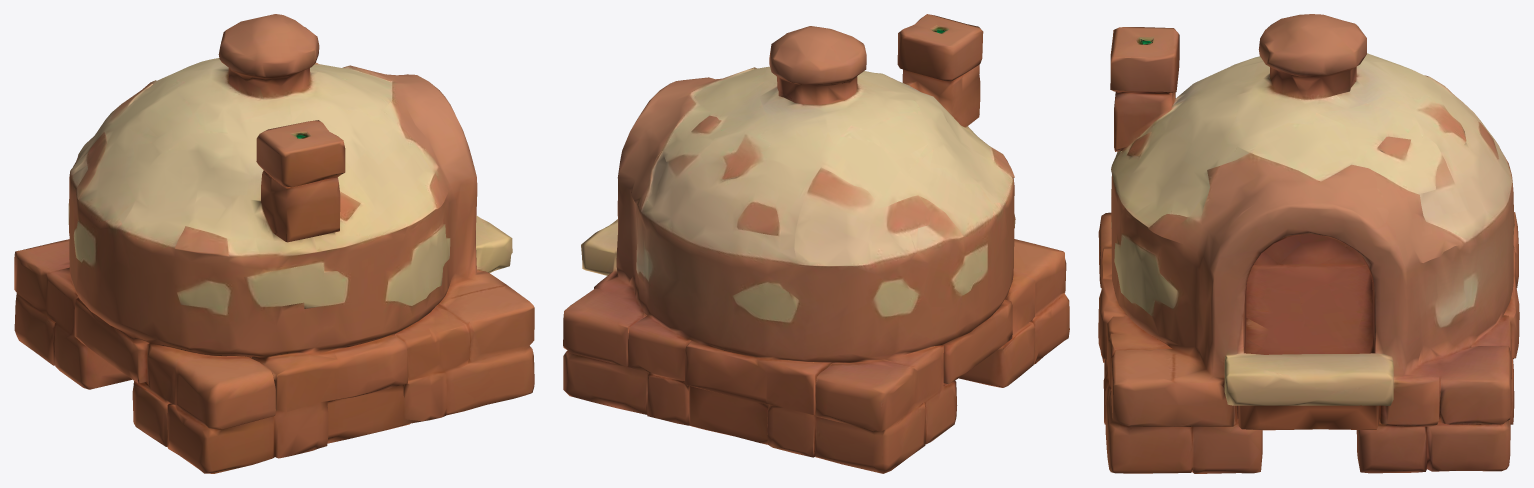
File: kiln.glb
3 views of the same model, side by side, from view 1: azimuth 30°, elevation 25°; view 2: azimuth 150°, elevation 25°; view 3: azimuth 270°, elevation 25° (orthographic). The views are drawn at different scales.
Parts seen in each view (by area): view 1: tripo_node_baa12783-7e6f-4b00-b04a-30fde6ef2c9a; view 2: tripo_node_baa12783-7e6f-4b00-b04a-30fde6ef2c9a; view 3: tripo_node_baa12783-7e6f-4b00-b04a-30fde6ef2c9a.
Boxes of the visible parts, x1,y1,x2,y2 form: tripo_node_baa12783-7e6f-4b00-b04a-30fde6ef2c9a: (14,14,534,473); tripo_node_baa12783-7e6f-4b00-b04a-30fde6ef2c9a: (563,14,1069,473); tripo_node_baa12783-7e6f-4b00-b04a-30fde6ef2c9a: (1098,14,1519,473).
Bounding box in the file's own units: 1 × 0.8721 × 0.9026.
Materials: 1 (1 with a texture image).
